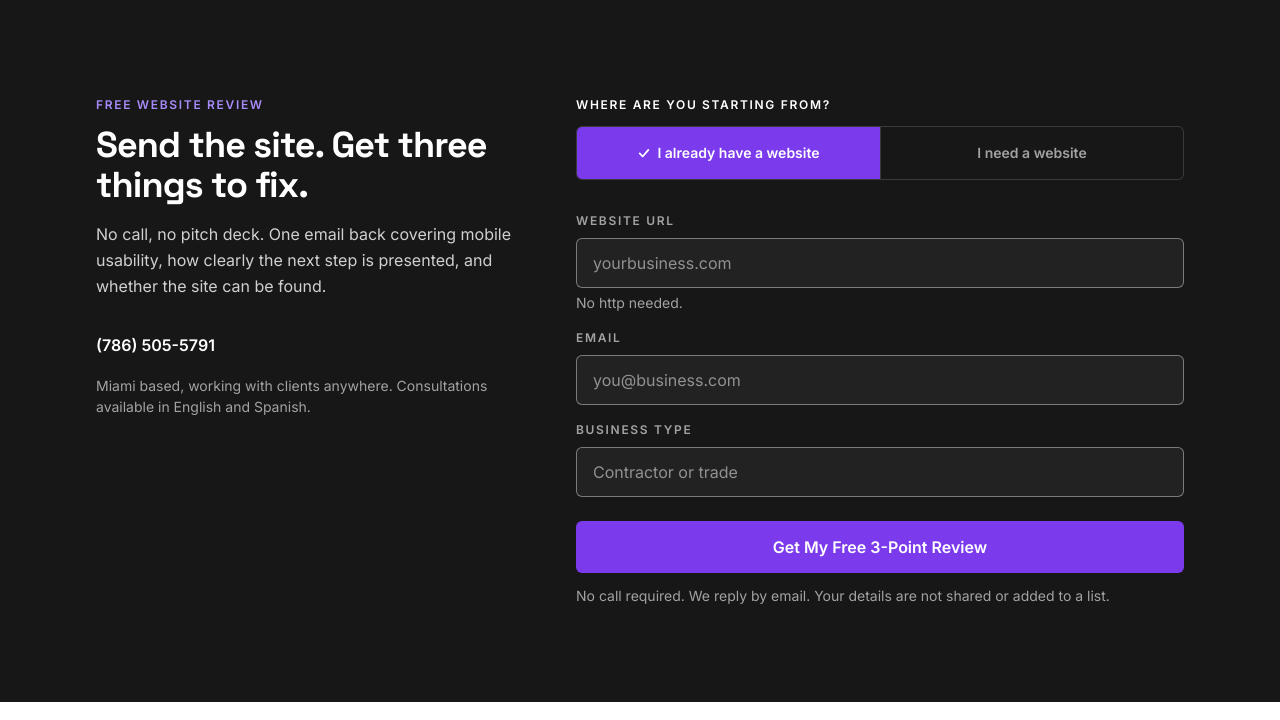
Test case: website address validation › rejects not a website and sends nothing
Type "not a website" into the field labelled "Website URL" at point(880, 263), box 576,238 -> 1184,288
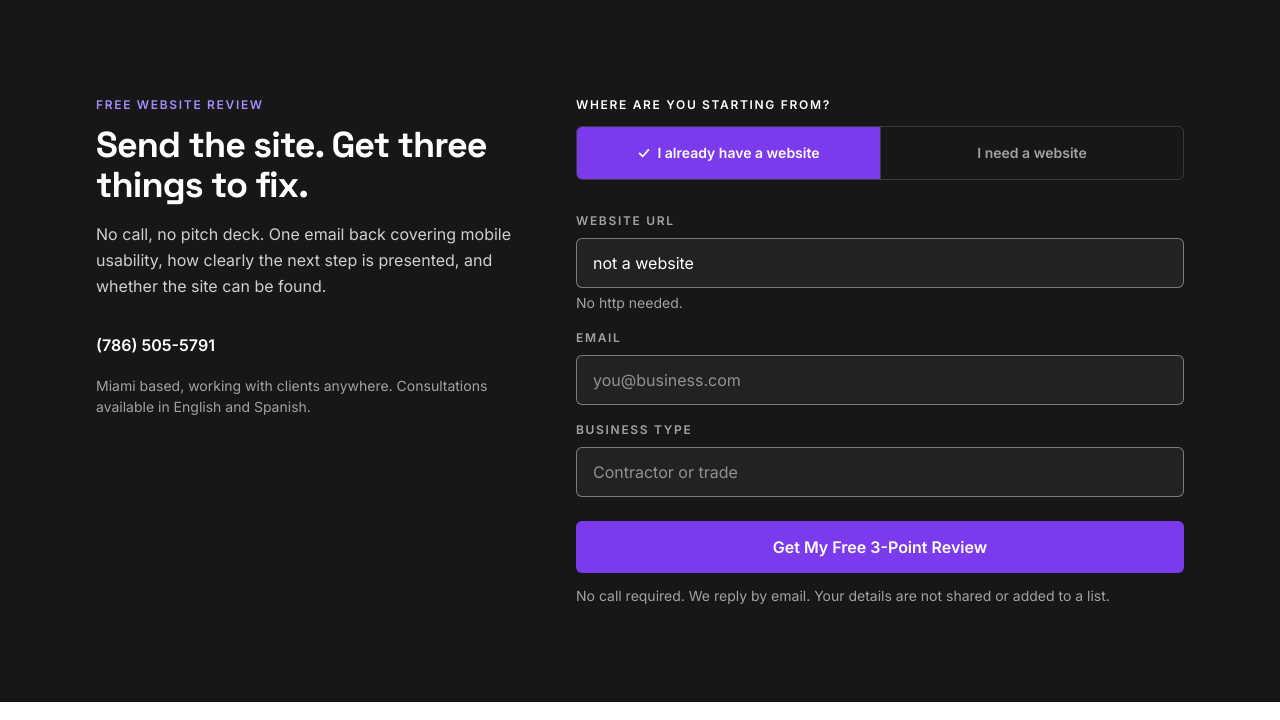
Type "bob@site.com" into the field labelled "Email" at point(880, 380), box 576,355 -> 1184,405
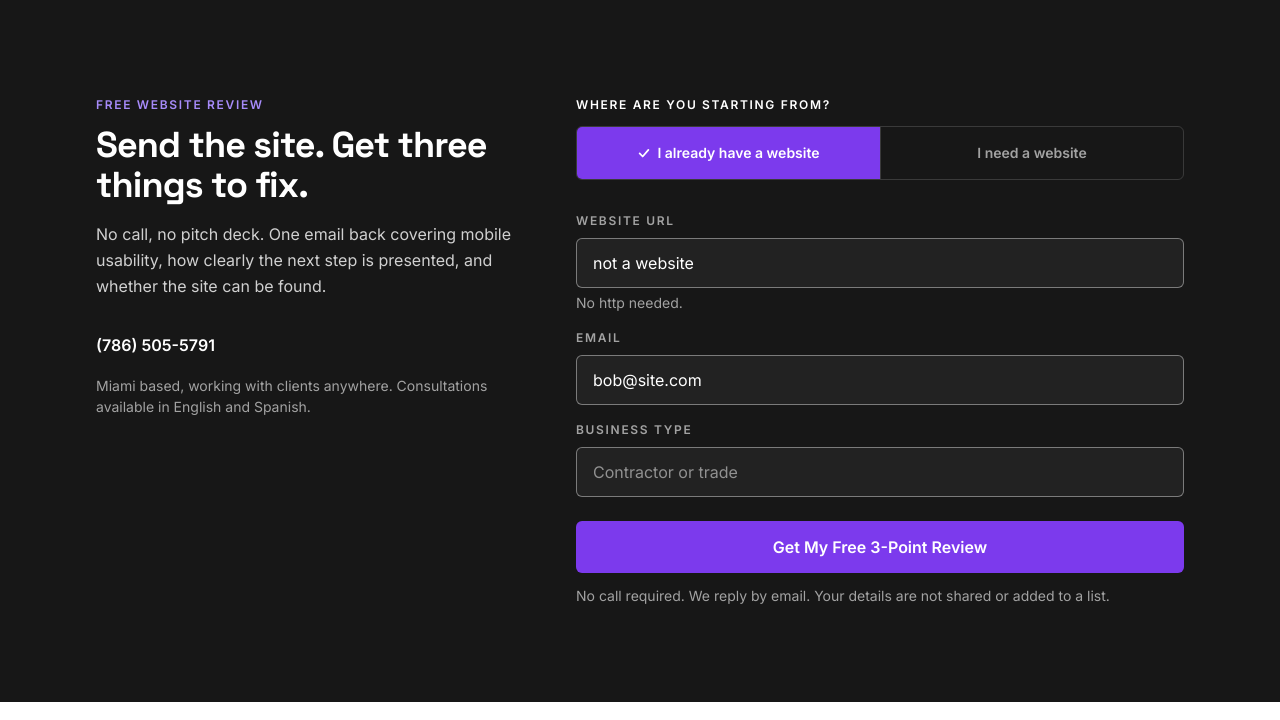
Click the button "Get My Free 3-Point Review" at point(880, 547), box 576,521 -> 1184,573
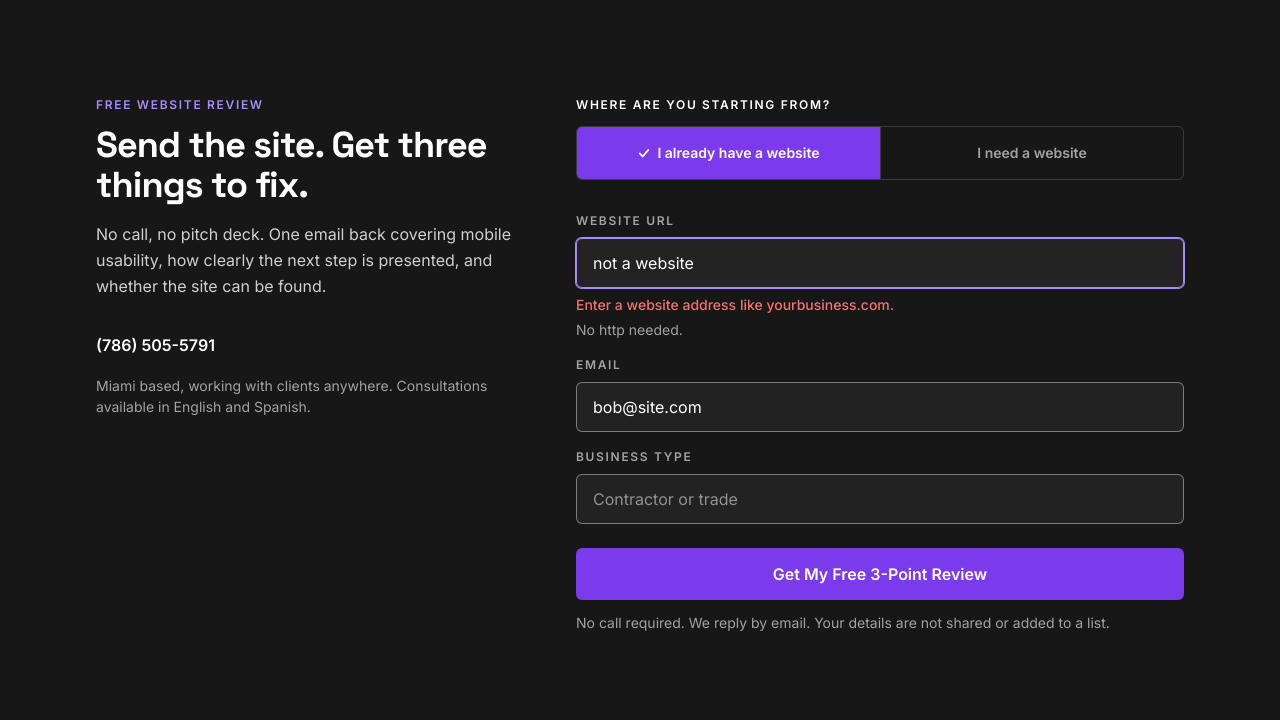
Now the text "Enter a website address like yourbusiness.com." is shown, box 576,296 -> 894,313
